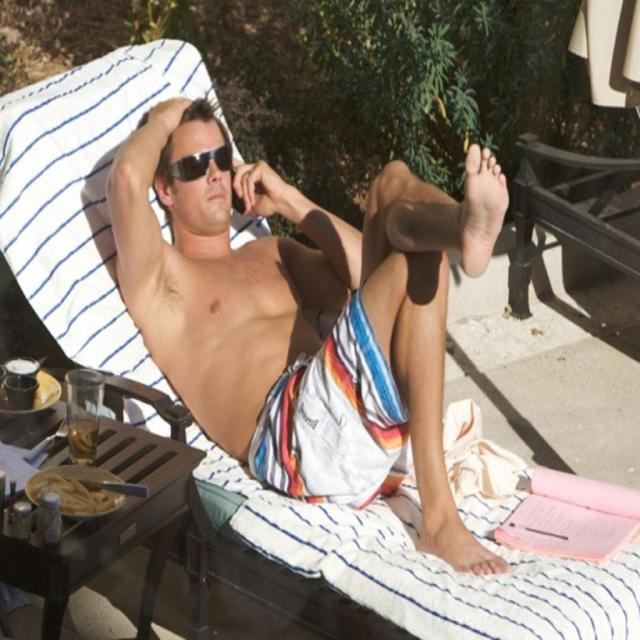nomask: (176, 118, 235, 225)
